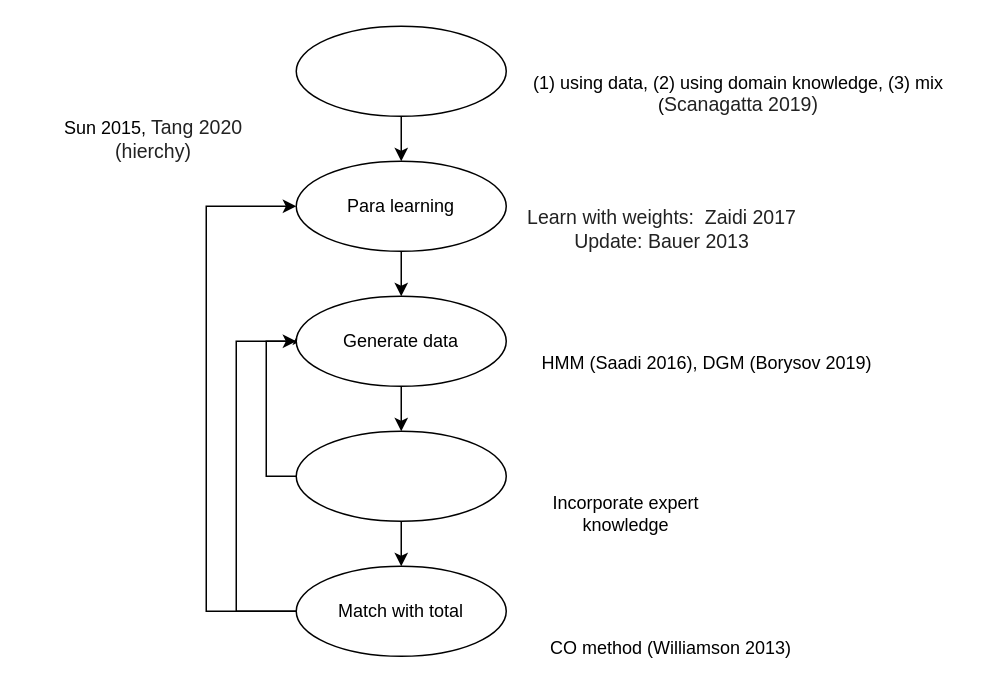
This 996x698 diagram has some shape labels left out. The shapes that lost their labels are listed below. From the top down, each one's box as (x1, y1, x2, y2) in pixels, then its label:
(295, 25, 506, 116): Struct learning
(295, 430, 506, 521): Removing impossible
